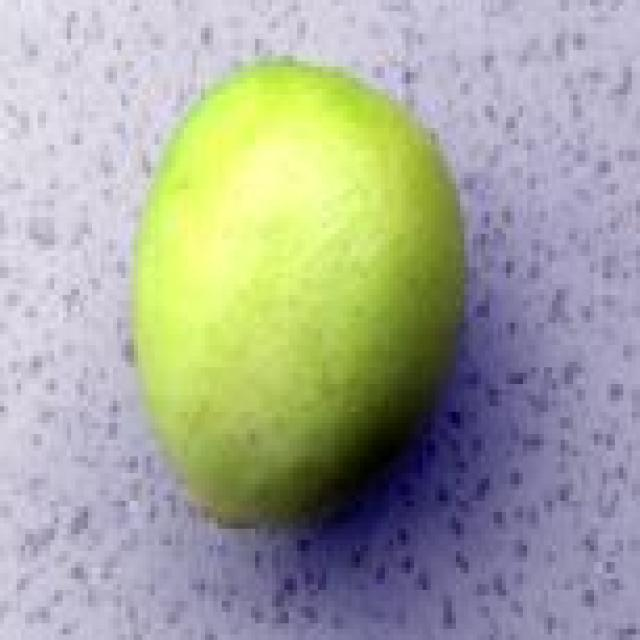Good_Lime-10-21-days: (125, 61, 468, 529)
